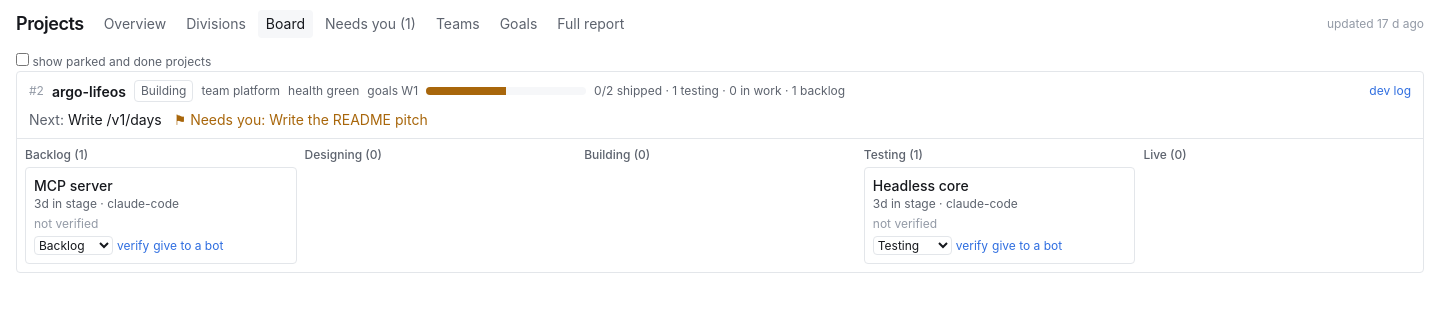
Test: Projects page › board puts features in stage columns and shows a refused move
Expected: the text "Headless core" is shown, [873,177,969,194]
Expected: the text "Testing (1)" is shown, [864,147,923,162]
Select "Live" in the dropdown named "Stage of Headless core": (912, 246) [873,236,952,255]
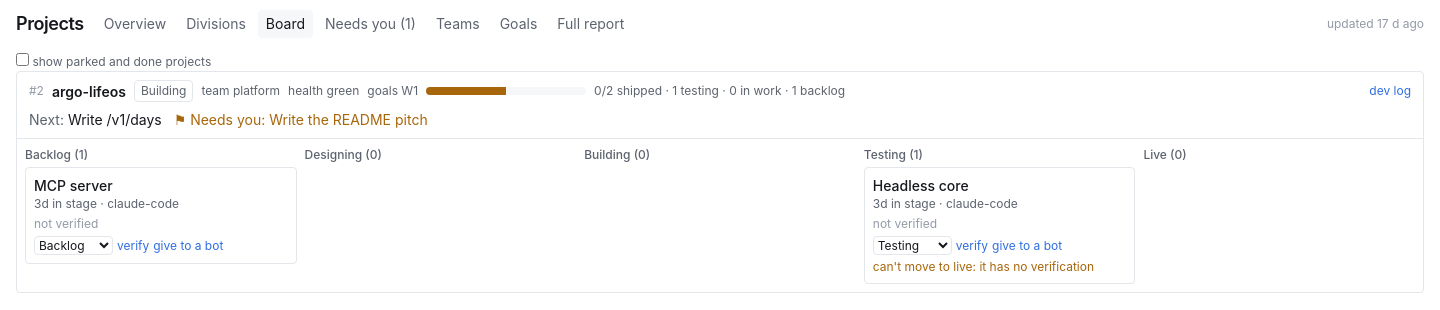
Expected: the text "can't move to live: it has no verification" is shown, [873,259,1126,275]
